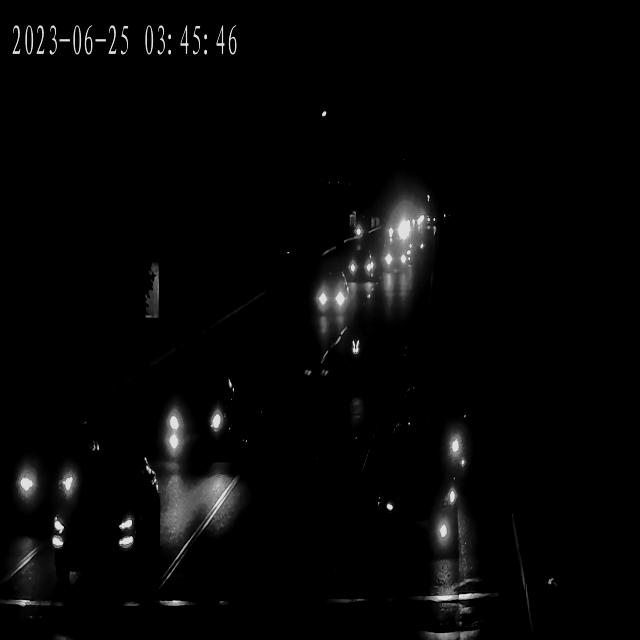Car: (41, 453, 171, 590), (149, 365, 244, 469), (1, 421, 99, 520), (369, 468, 463, 559), (394, 359, 468, 469), (312, 275, 353, 316), (382, 239, 410, 276), (349, 252, 378, 287), (359, 218, 381, 240), (396, 218, 416, 240)
